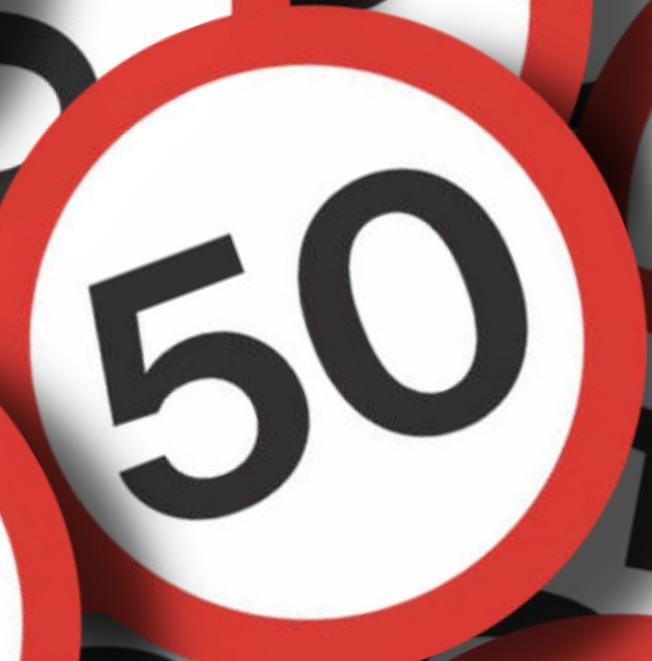Speed Limit -50-: (0, 1, 651, 660)
